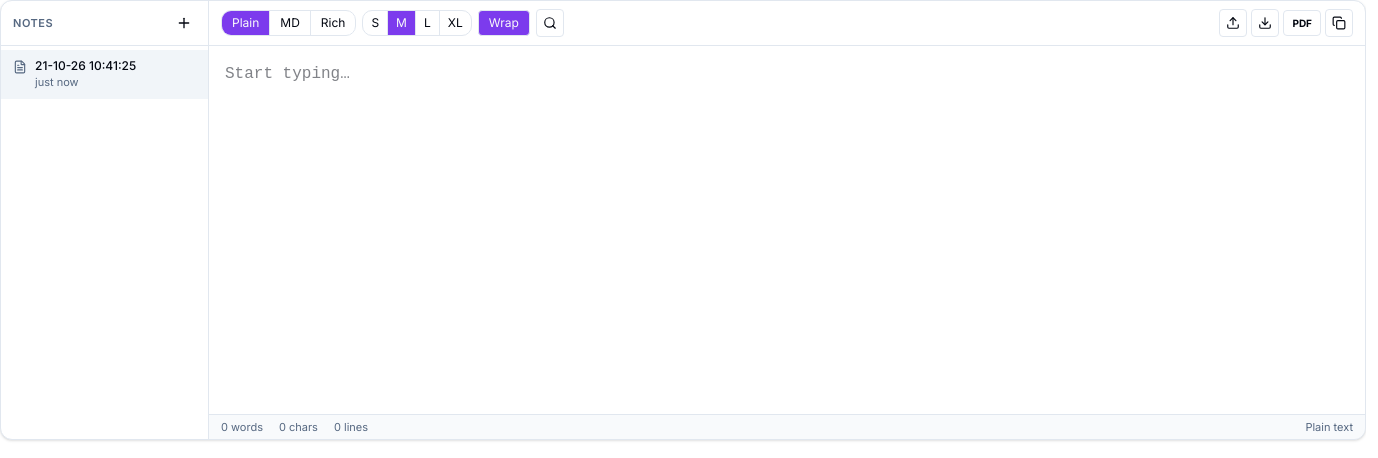
Test: EditorPad › updates word / char count in status bar
In the text box with placeholder "Start typing…": (787, 230) [209,46,1365,414], type "hello world"
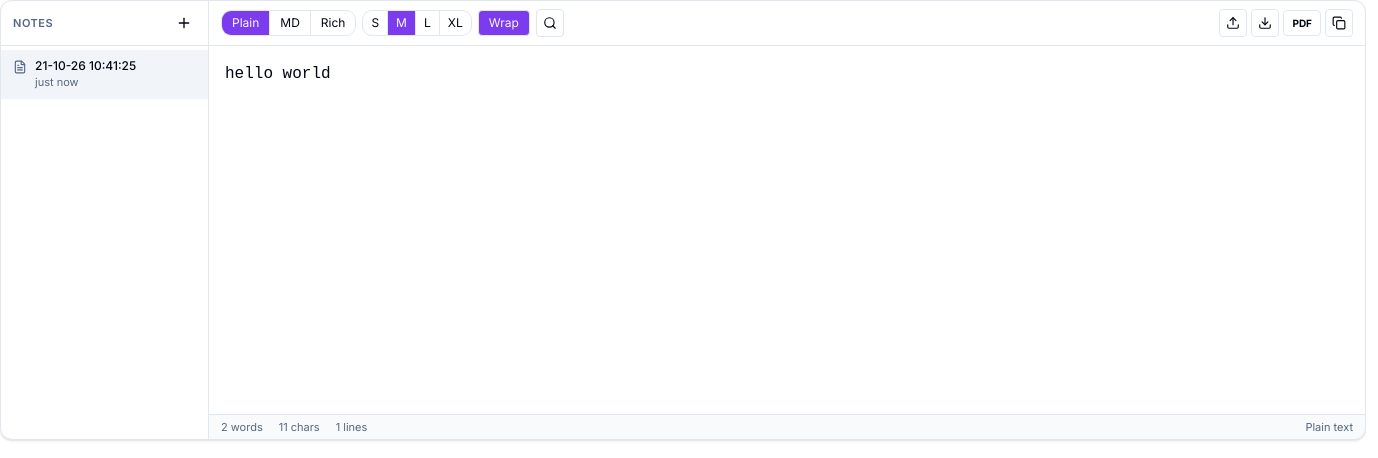
expect the text "2 words" is shown: met, box [221,418,263,435]
expect the text "11 chars" is shown: met, box [279,418,320,435]
